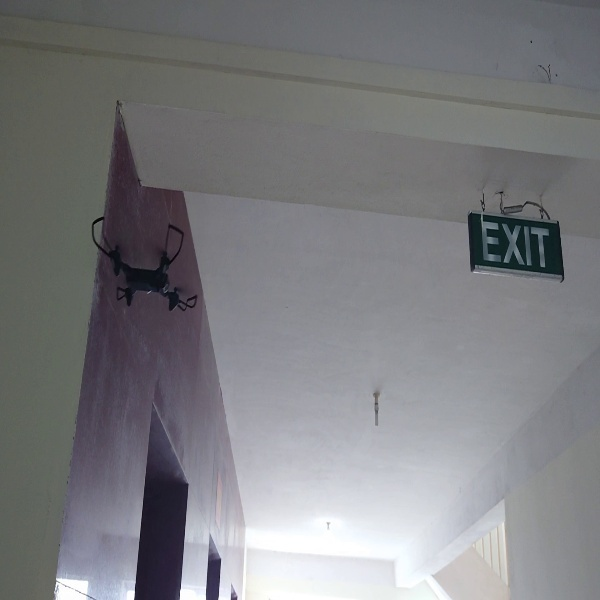drone: (88, 209, 199, 313)
